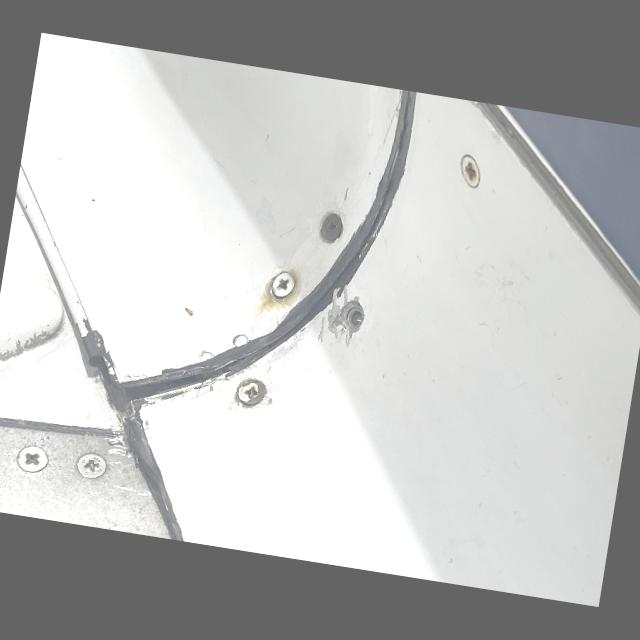Missing Fastener: (342, 296, 381, 335)
